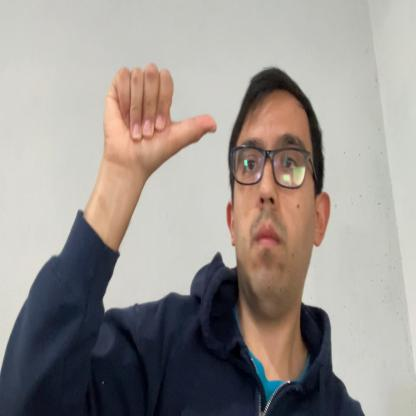A: (104, 64, 217, 166)
